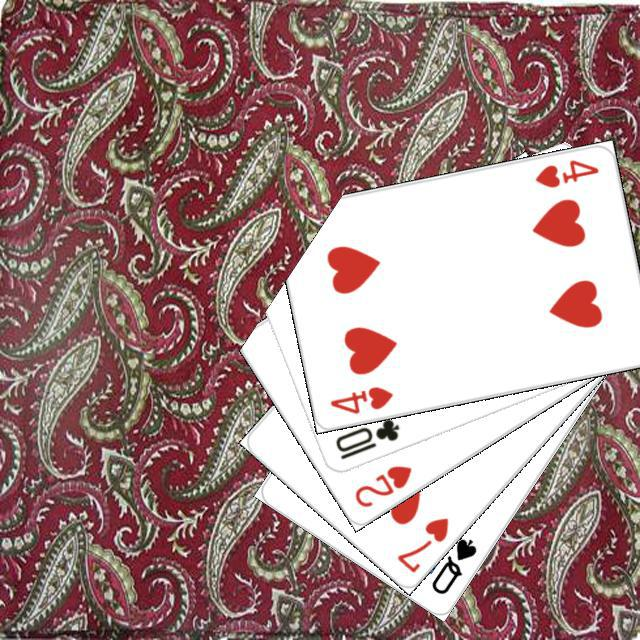10c: (330, 414, 401, 461)
2h: (349, 460, 414, 509)
4h: (530, 154, 600, 190), (325, 381, 395, 416)
7h: (392, 512, 451, 575)
Qs: (426, 533, 479, 597)
